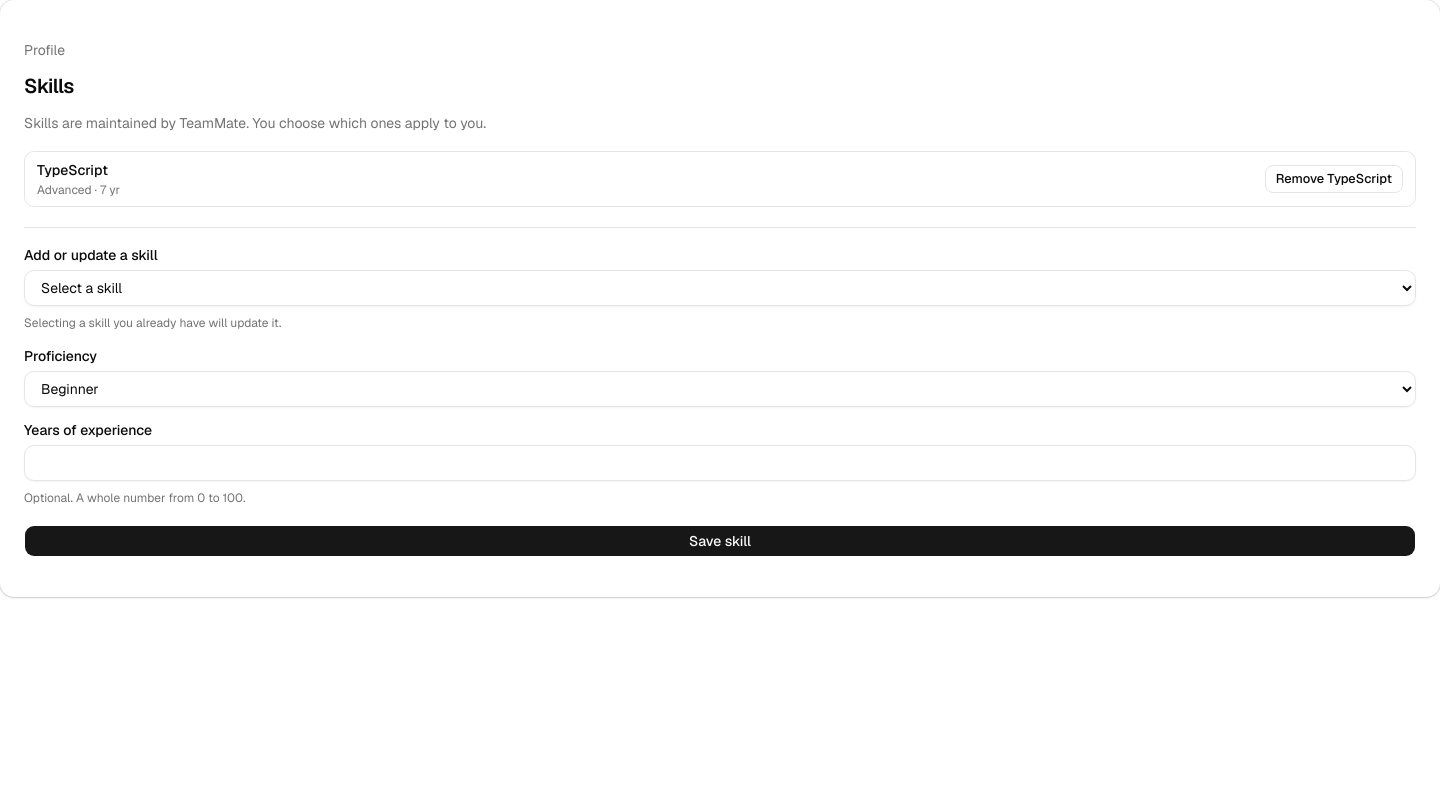
Test case: skills section › removes an assigned skill via an accessible named action
The image size is (1440, 810).
Click the button "Remove TypeScript" at (1334, 179), box [1265, 165, 1403, 193]
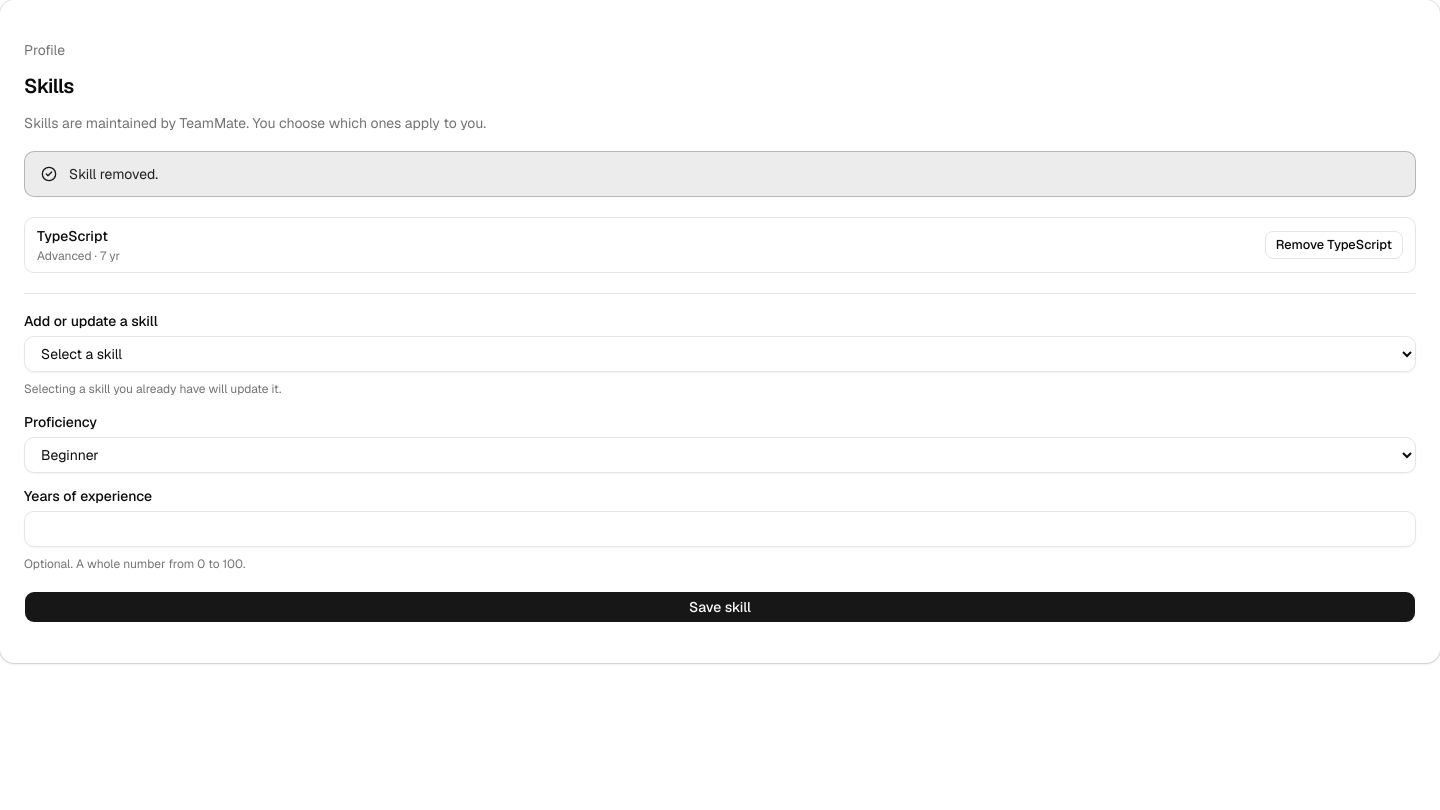
Check: the text "Skill removed." is shown, box [69, 165, 158, 183]
